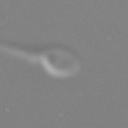normal: (1, 41, 42, 64)
